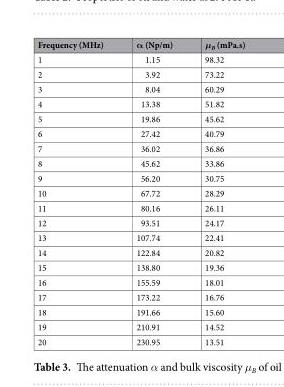table: (36, 37, 244, 347)
table column: (36, 37, 119, 347), (119, 37, 188, 347), (188, 37, 244, 347)
table column header: (36, 37, 244, 51)
table row: (36, 51, 244, 66), (36, 66, 244, 81), (36, 81, 244, 96), (36, 110, 244, 125), (36, 125, 244, 140), (36, 140, 244, 155), (36, 155, 244, 170), (36, 170, 244, 185), (36, 185, 244, 200), (36, 214, 244, 229), (36, 229, 244, 244), (36, 244, 244, 259), (36, 259, 244, 274), (36, 274, 244, 289), (36, 289, 244, 304), (36, 304, 244, 319), (36, 37, 244, 51), (36, 96, 244, 110), (36, 200, 244, 214), (36, 319, 244, 333), (36, 333, 244, 347)
